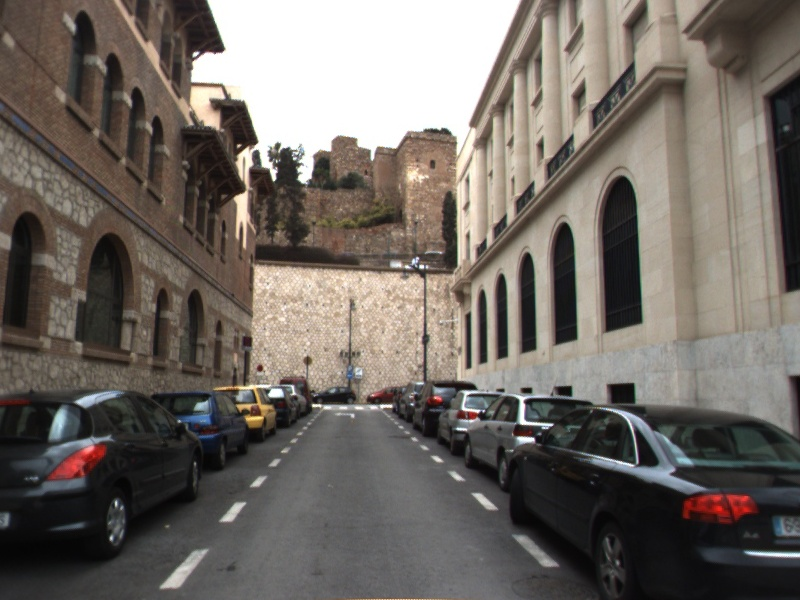LEFT: (332, 409, 357, 420)
